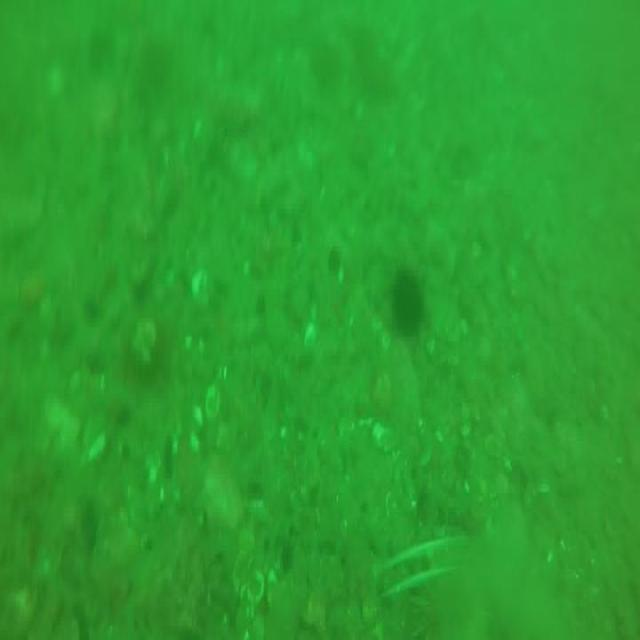echinus: (393, 267, 427, 337)
scallop: (233, 547, 264, 607), (206, 381, 219, 420), (190, 406, 203, 427)
